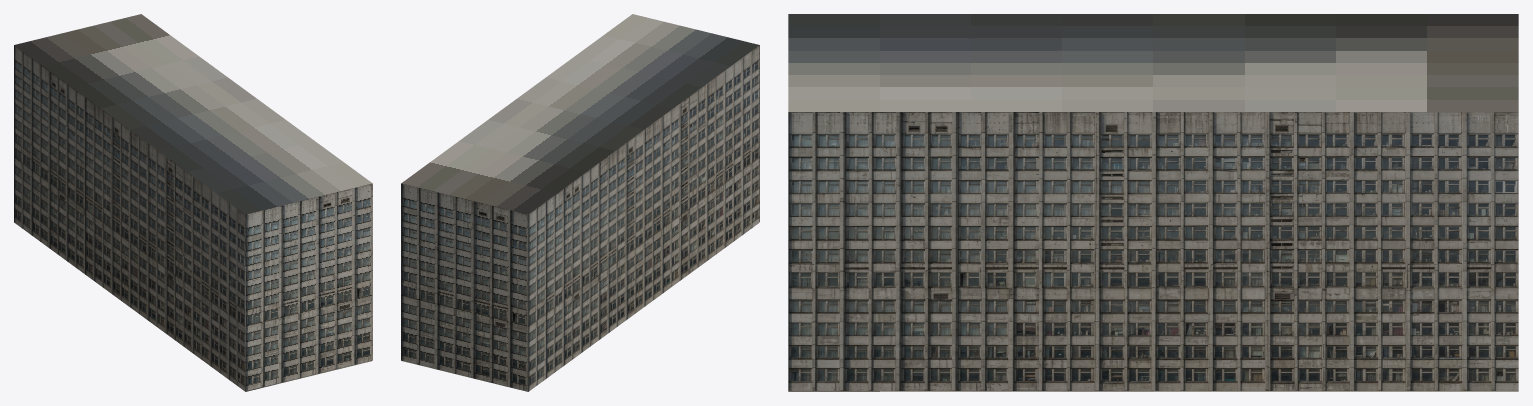
File: building_02.gltf
The picture shows the model from 3 angles, left to right: view 1: azimuth 30°, elevation 25°; view 2: azimuth 150°, elevation 25°; view 3: azimuth 270°, elevation 25°; orthographic projection. The views are drawn at different scales.
Visible parts, largest first — view 1: mesh; view 2: mesh; view 3: mesh.
Boxes of the visible parts, box(x1,y1,x2,y2) form: mesh: box(14, 14, 372, 391); mesh: box(401, 14, 759, 391); mesh: box(788, 14, 1518, 391).
Size of the model in its own units: 4.12 by 5.5 by 13.
Materials: 1 (1 with a texture image).
